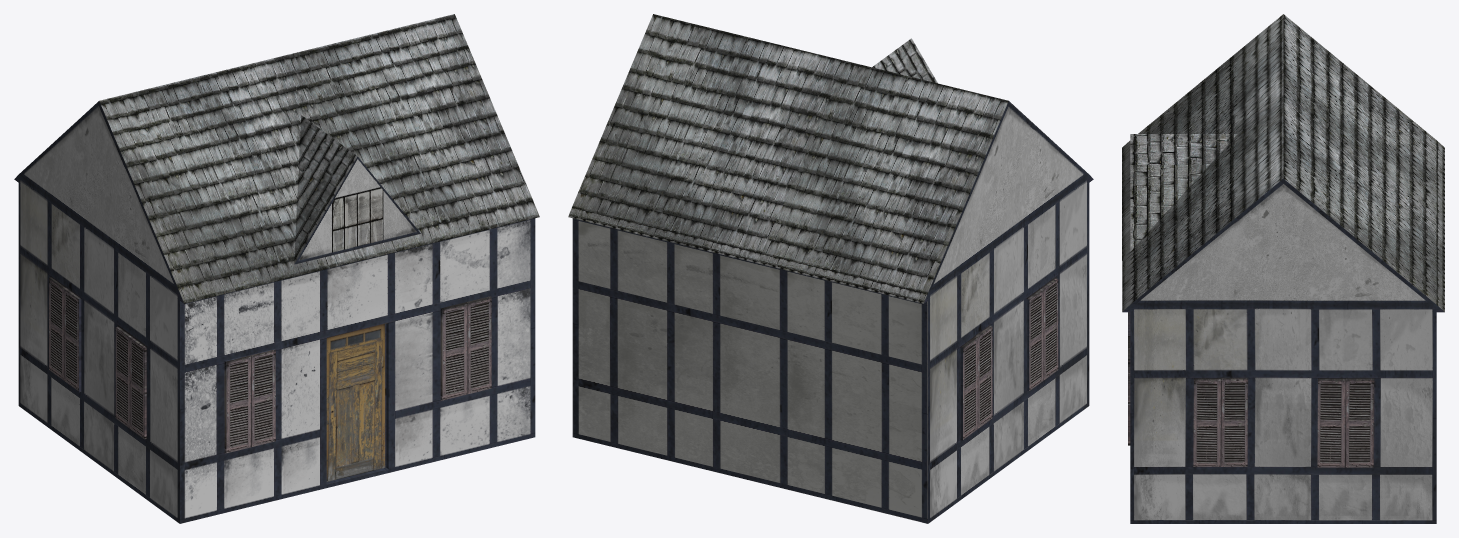
Rendered from house1.obj.
3 renders of one model, left to right at view 1: azimuth 30°, elevation 25°; view 2: azimuth 150°, elevation 25°; view 3: azimuth 270°, elevation 25°, orthographic. The views are drawn at different scales.
Parts seen in each view (by area): view 1: Box01, laterla; view 2: Box01, back, laterla; view 3: laterla, Box01.
Boxes of the visible parts, x1,y1,x2,y2 form: Box01: (99, 14, 539, 523); laterla: (14, 101, 420, 523); Box01: (568, 14, 1008, 303); back: (572, 218, 927, 523); laterla: (924, 101, 1093, 523); laterla: (1122, 179, 1444, 523); Box01: (1122, 14, 1444, 445).
Bounding box in the file's own units: 141 × 137 × 116.
3 materials, 3 textured.
